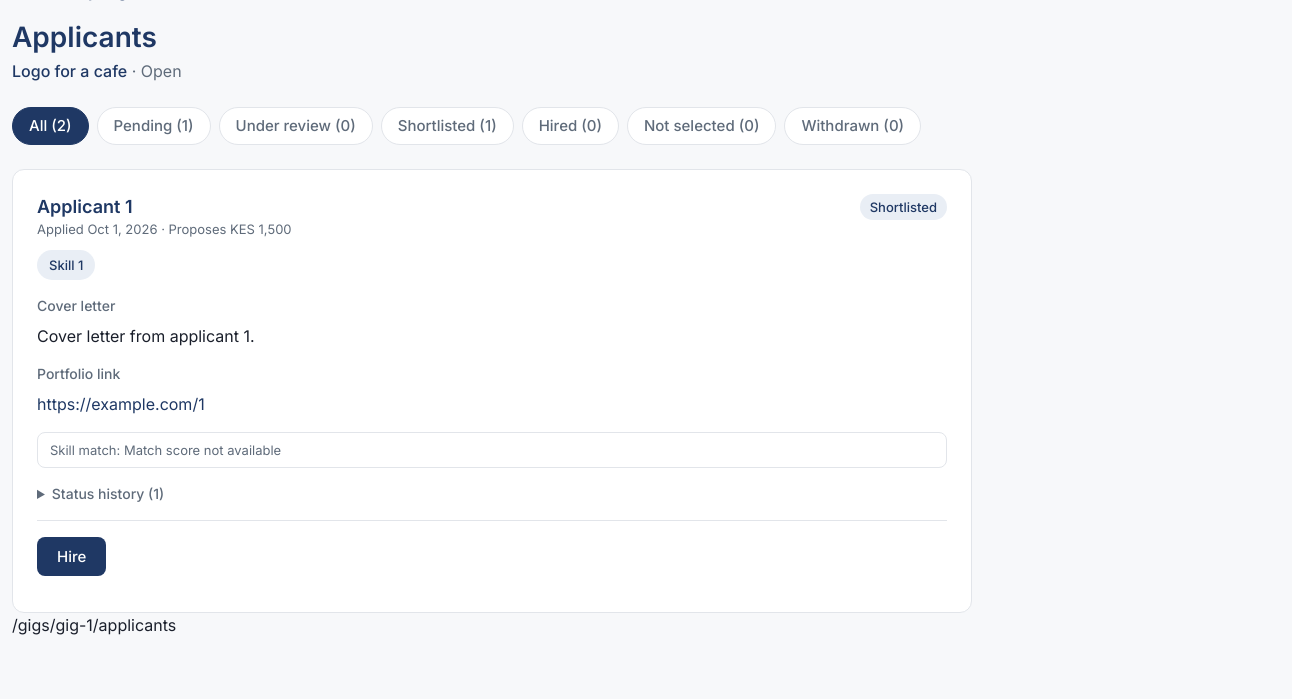
Scenario: GigApplicants page › shows the server message when a move is refused
Click the button "Hire" at [72, 556], box [37, 537, 106, 576]
(page scrolled)
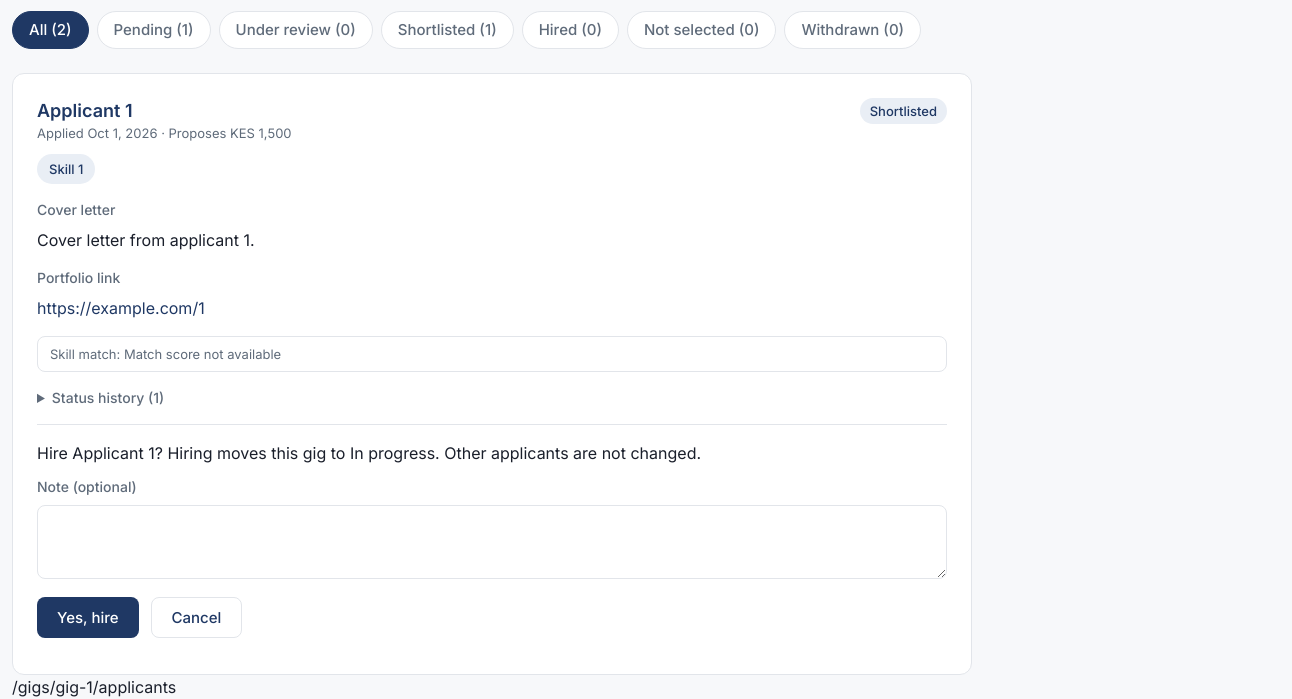
Click the button "Yes, hire" at [88, 618], box [37, 597, 139, 638]
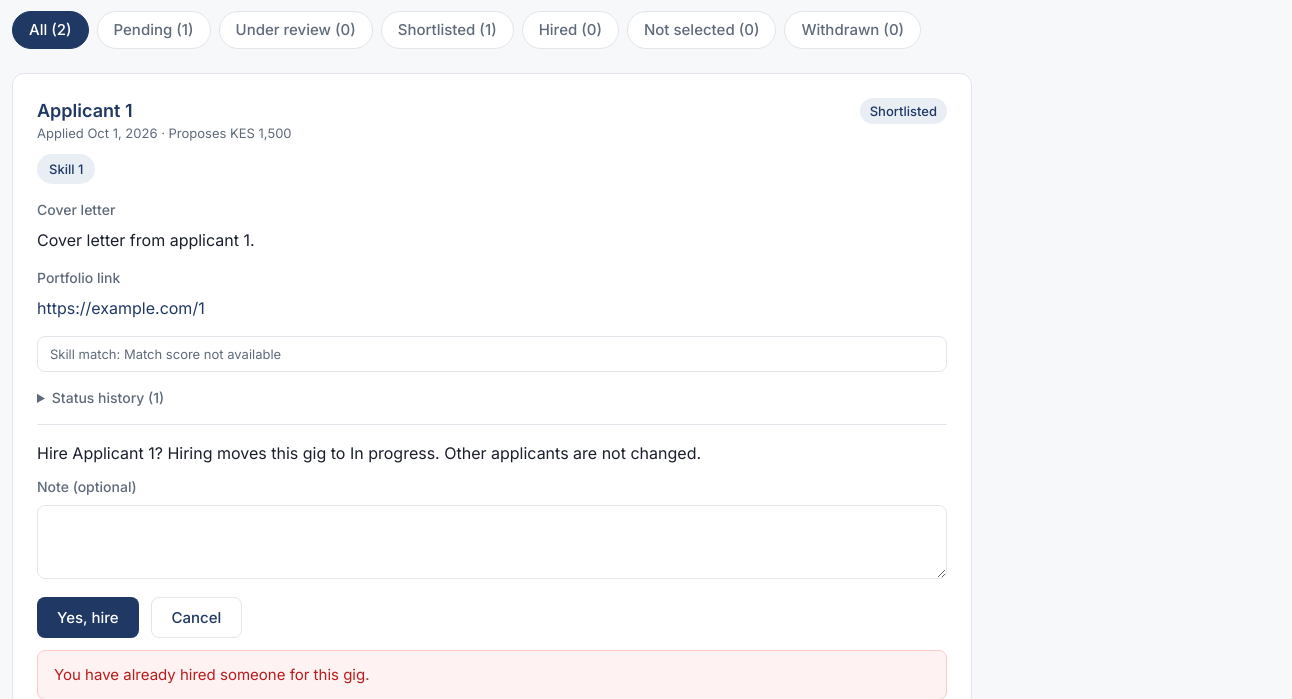
Expected: the text "You have already hired someone for this gig." is shown, [37, 650, 947, 698]
